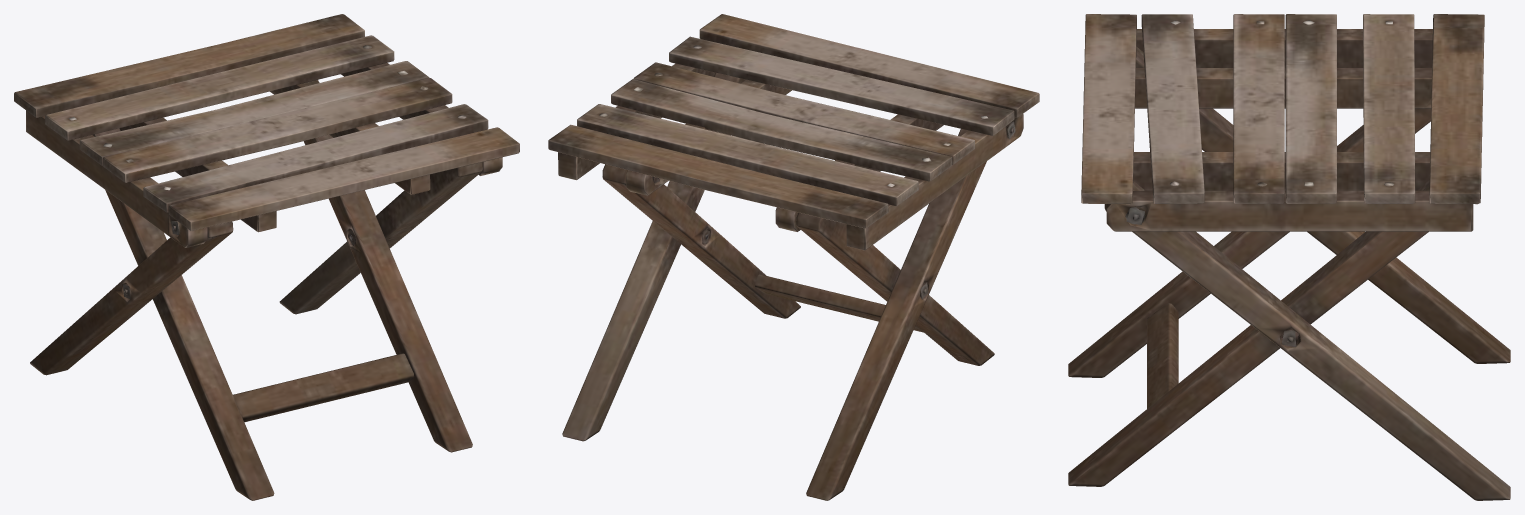
Rendered from folding_wooden_stool.lod1.glb.
3 views of the same model, side by side, from view 1: azimuth 30°, elevation 25°; view 2: azimuth 150°, elevation 25°; view 3: azimuth 270°, elevation 25° (orthographic). The views are drawn at different scales.
Visible parts, largest first — view 1: folding_wooden_stool; view 2: folding_wooden_stool; view 3: folding_wooden_stool.
Part boxes in pixels (bbox=[...]): folding_wooden_stool: bbox=[14, 14, 519, 500]; folding_wooden_stool: bbox=[548, 14, 1039, 500]; folding_wooden_stool: bbox=[1068, 14, 1510, 500].
Size of the model in its own units: 0.5278 by 0.442 by 0.5471.
Materials: 1 (1 with a texture image).
